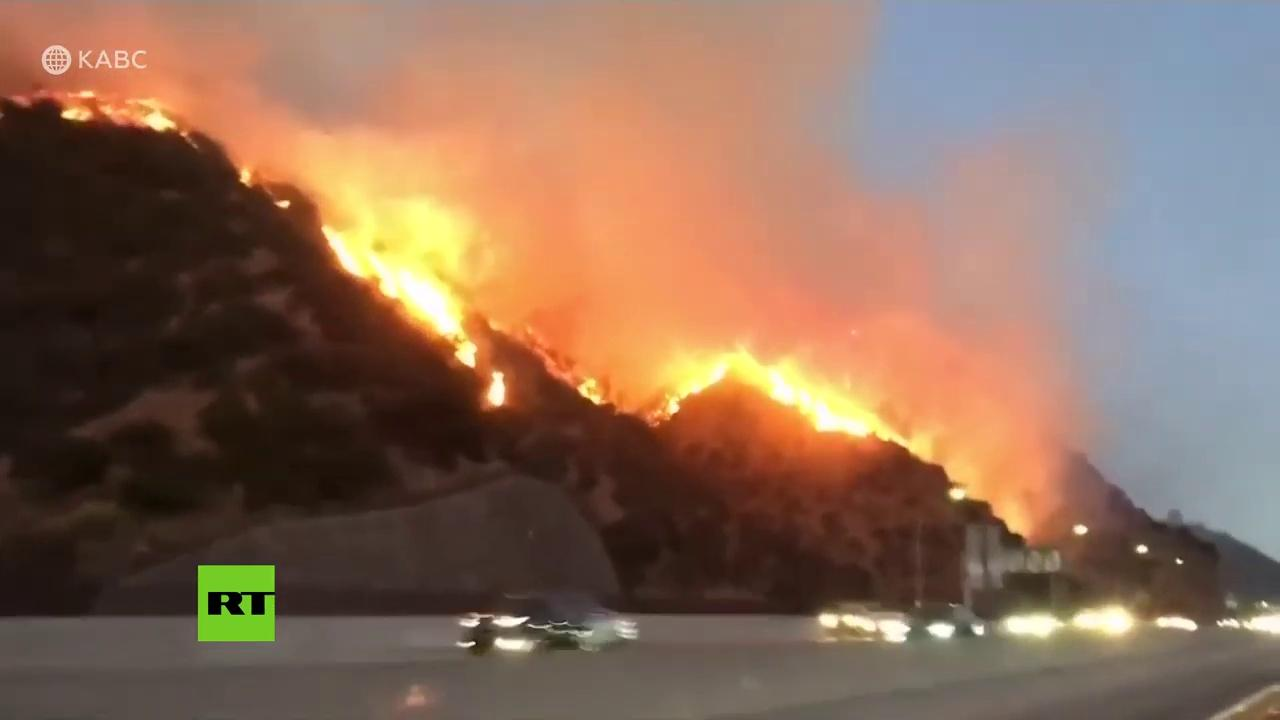Fire: (649, 349, 906, 445), (322, 224, 477, 362), (51, 87, 180, 138), (578, 376, 607, 408), (487, 369, 507, 409)
